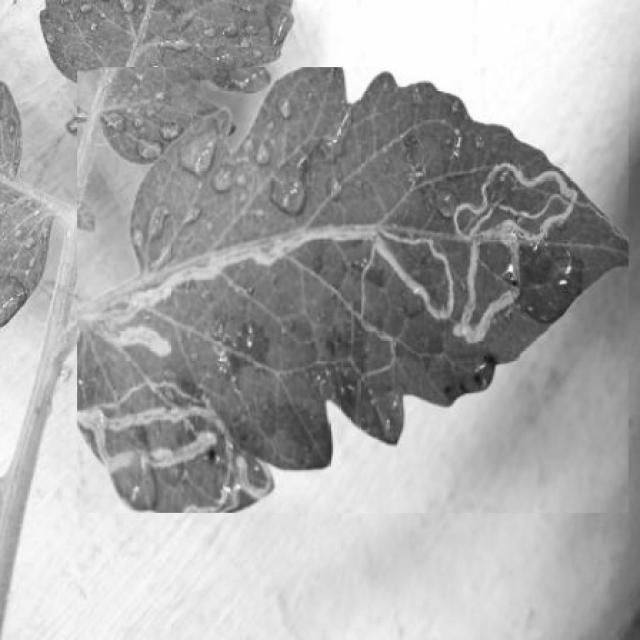Leaf Miner: (77, 68, 629, 513)
